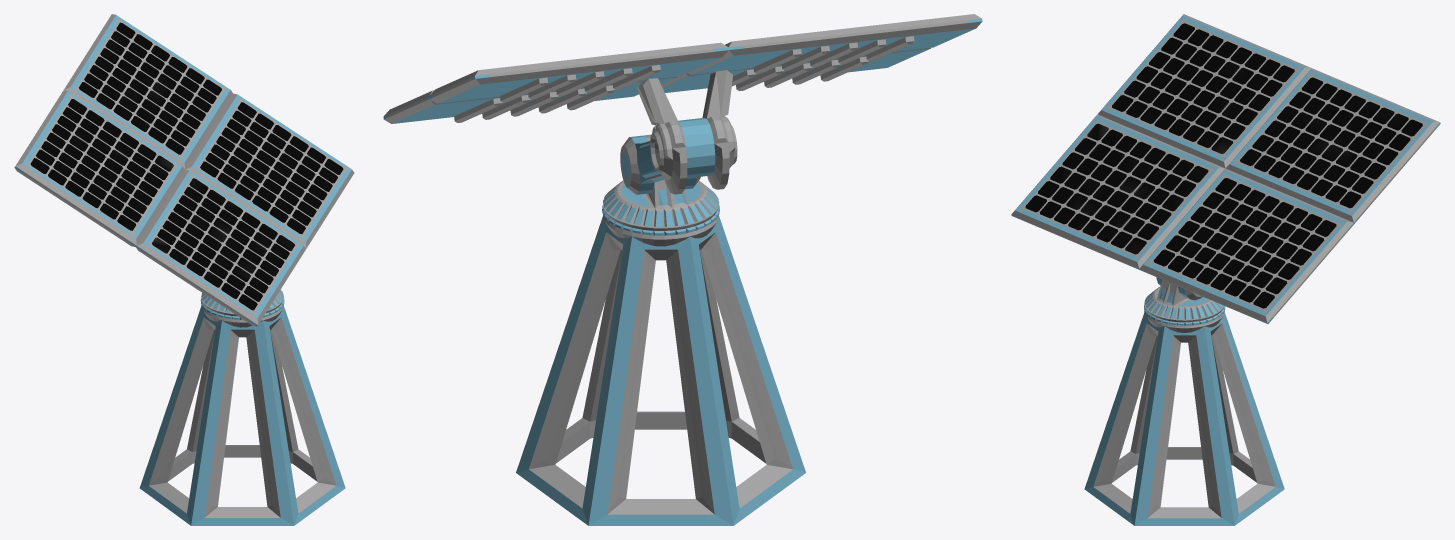
The model's file is EnergyFarm_v1.gltf.
3 renders of one model, left to right at view 1: azimuth 30°, elevation 25°; view 2: azimuth 150°, elevation 25°; view 3: azimuth 270°, elevation 25°, orthographic. The views are drawn at different scales.
Parts seen in each view (by area): view 1: GreyFaces.003, PlayerFaces.006, BlackFaces.003, BlackFaces.002, BlackFaces.001, BlackFaces, GrayFaces, GreyFaces.002, GreyFaces.004, GreyFaces.005, PlayerFaces.002, PlayerFaces.001 (+2 smaller); view 2: GreyFaces.003, PlayerFaces.006, GreyFaces.005, GrayFaces, GreyFaces.006, GreyFaces.004, PlayerFaces, GreyFaces.001, GreyFaces.002, PlayerFaces.005, PlayerFaces.004, PlayerFaces.001 (+3 smaller); view 3: GreyFaces.003, BlackFaces.001, BlackFaces.002, BlackFaces, BlackFaces.003, PlayerFaces.006, GreyFaces.004, GreyFaces.005, GreyFaces.002, GrayFaces, PlayerFaces.003, PlayerFaces.002 (+4 smaller).
Part boxes in pixels (<box>): GreyFaces.003: <box>149,301,336,517</box>; PlayerFaces.006: <box>139,298,345,525</box>; BlackFaces.003: <box>200,102,343,234</box>; BlackFaces.002: <box>152,178,295,310</box>; BlackFaces.001: <box>30,99,173,230</box>; BlackFaces: <box>79,22,221,154</box>; GrayFaces: <box>15,90,184,246</box>; GreyFaces.002: <box>136,169,305,326</box>; GreyFaces.004: <box>185,93,354,248</box>; GreyFaces.005: <box>64,14,232,168</box>; PlayerFaces.002: <box>136,170,303,326</box>; PlayerFaces.001: <box>14,91,181,246</box>; GreyFaces.003: <box>529,209,792,514</box>; PlayerFaces.006: <box>516,205,805,525</box>; GreyFaces.005: <box>430,42,728,103</box>; GrayFaces: <box>687,14,982,74</box>; GreyFaces.006: <box>636,70,737,194</box>; GreyFaces.004: <box>384,76,677,123</box>; PlayerFaces: <box>622,118,715,194</box>; GreyFaces.001: <box>603,134,719,228</box>; GreyFaces.002: <box>661,48,930,91</box>; PlayerFaces.005: <box>603,183,718,226</box>; PlayerFaces.004: <box>429,47,728,103</box>; PlayerFaces.001: <box>691,18,982,74</box>; GreyFaces.003: <box>1093,307,1275,518</box>; BlackFaces.001: <box>1112,23,1294,153</box>; BlackFaces.002: <box>1025,123,1208,254</box>; BlackFaces: <box>1240,77,1422,208</box>; BlackFaces.003: <box>1153,178,1336,308</box>; PlayerFaces.006: <box>1084,304,1284,525</box>; GreyFaces.004: <box>1139,168,1353,322</box>; GreyFaces.005: <box>1226,68,1439,222</box>; GreyFaces.002: <box>1011,114,1225,268</box>; GrayFaces: <box>1097,14,1311,168</box>; PlayerFaces.003: <box>1139,170,1354,323</box>; PlayerFaces.002: <box>1011,116,1218,269</box>.
Bounding box in the file's own units: 0.7878 × 0.7457 × 0.7878.
